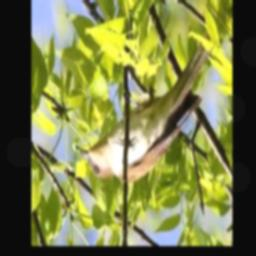Cuckoo: (75, 27, 215, 181)
